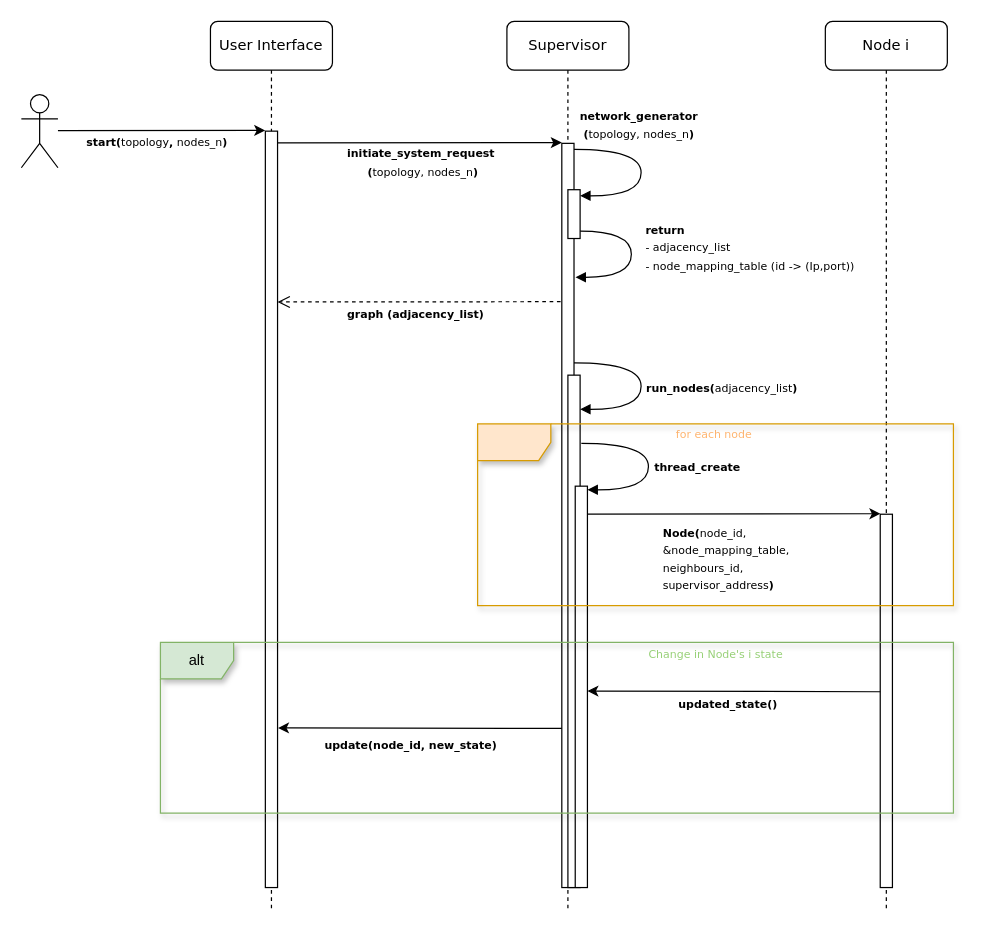
This 982x932 diagram has some shape labels left out. Each missing label, with the centre of its shape:
loop: the point at 716,516
User: the point at 39,130
